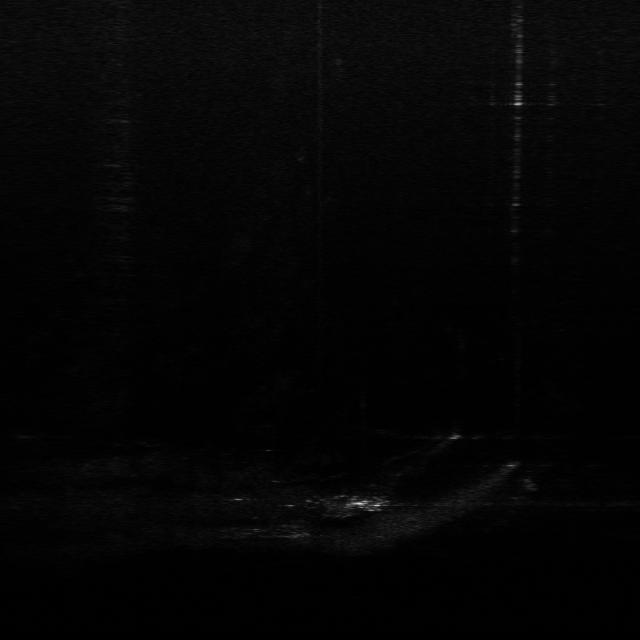rov: (344, 494, 386, 512)
